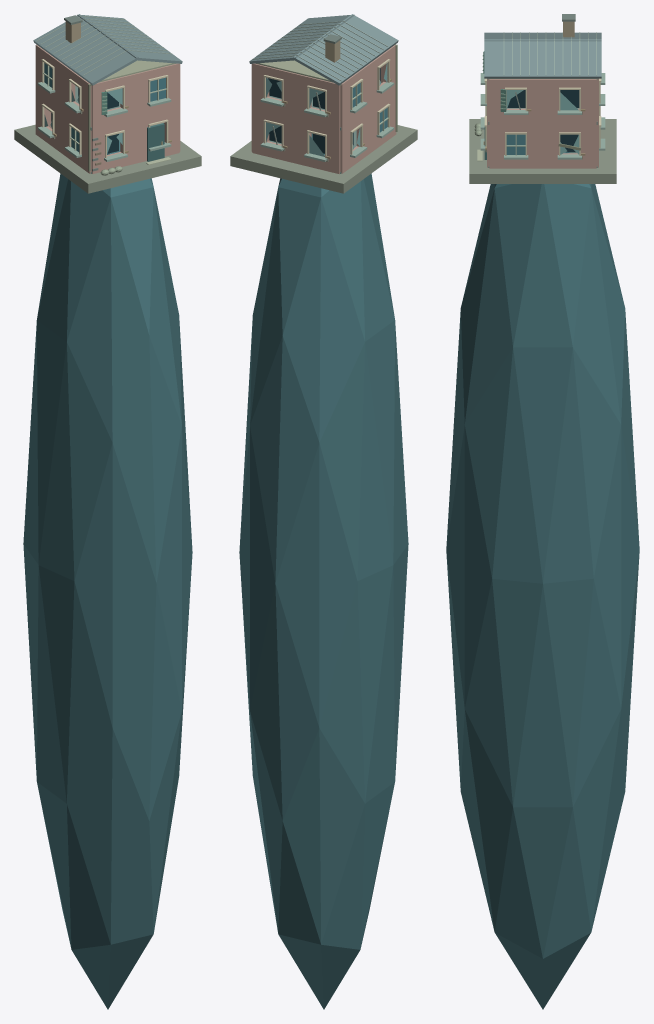
File: house_02.glb
3 views of the same model, side by side, from view 1: azimuth 30°, elevation 25°; view 2: azimuth 150°, elevation 25°; view 3: azimuth 270°, elevation 25° (orthographic).
Parts seen in each view (by area): view 1: house_02; view 2: house_02; view 3: house_02.
Part boxes in pixels (left/top/right/bottom): house_02: left=14, top=14, right=201, bottom=1009; house_02: left=230, top=14, right=417, bottom=1009; house_02: left=446, top=14, right=639, bottom=1009.
Size of the model in its own units: 10.4 by 70.63 by 12.6.
